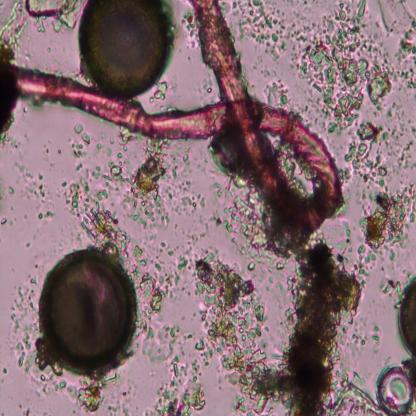Background material: (266, 240, 367, 416), (296, 1, 393, 135), (192, 251, 272, 400), (216, 178, 272, 262), (361, 177, 416, 254), (8, 257, 42, 372), (84, 204, 133, 278), (142, 359, 204, 416), (232, 0, 288, 61), (132, 239, 166, 336), (119, 174, 170, 230), (348, 114, 386, 188), (331, 363, 379, 416), (384, 104, 416, 179), (64, 374, 119, 414), (0, 42, 20, 146), (143, 325, 195, 362), (390, 32, 416, 99), (23, 0, 82, 29), (379, 0, 416, 43), (168, 177, 204, 216), (1, 0, 29, 48), (59, 178, 92, 218), (130, 156, 166, 192), (14, 171, 52, 205), (160, 255, 188, 301), (104, 378, 134, 416), (232, 390, 272, 416), (178, 4, 202, 47), (36, 362, 66, 396), (334, 217, 354, 266), (354, 245, 379, 284), (260, 80, 290, 110), (284, 22, 303, 66), (169, 138, 189, 175), (379, 276, 401, 308), (144, 138, 168, 161), (184, 228, 202, 256), (198, 339, 216, 365), (102, 161, 122, 183), (368, 323, 384, 346), (116, 128, 135, 146), (69, 137, 84, 158), (93, 187, 110, 204), (159, 240, 175, 258), (37, 208, 56, 223), (348, 333, 368, 347), (338, 166, 352, 185), (16, 401, 31, 416), (385, 246, 397, 263), (88, 164, 101, 179), (0, 178, 7, 202), (12, 160, 26, 172), (74, 121, 84, 133), (82, 132, 91, 144), (41, 143, 48, 156), (21, 102, 26, 119), (6, 185, 14, 195), (106, 146, 113, 157), (1, 363, 7, 374), (0, 217, 7, 225), (96, 141, 102, 150), (76, 164, 83, 171), (25, 240, 31, 248), (109, 136, 115, 144), (46, 46, 51, 54), (56, 148, 62, 154), (124, 146, 129, 152), (117, 152, 122, 158), (303, 0, 307, 7), (23, 214, 28, 219), (61, 182, 65, 187), (9, 221, 13, 226)
Diatom: (36, 245, 142, 382), (77, 0, 176, 98), (374, 363, 415, 414), (397, 278, 416, 360)
Microfibre: (10, 0, 342, 232)
